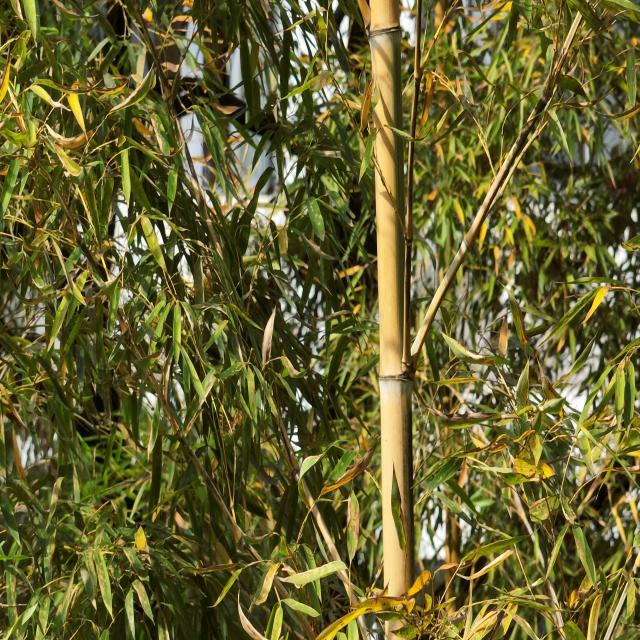Bamboo-shoots: (369, 0, 415, 640)
